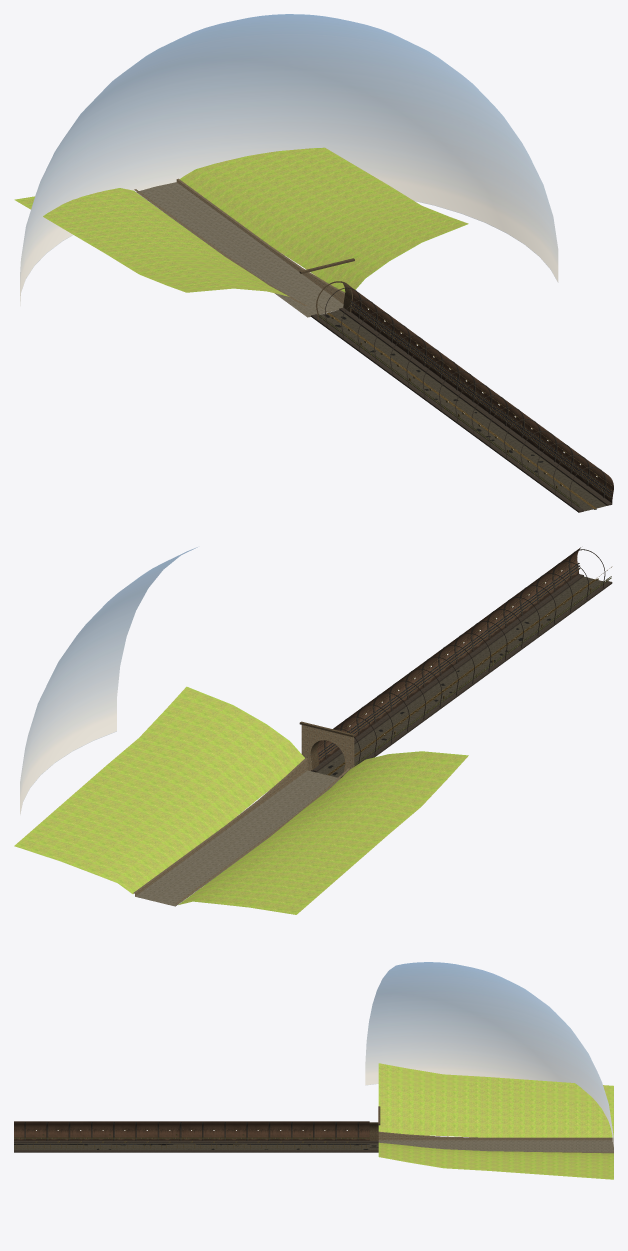
Rendered from portal-tunnel-v16.glb.
3 views of the same model, one above another, from view 1: azimuth 30°, elevation 25°; view 2: azimuth 150°, elevation 25°; view 3: azimuth 270°, elevation 25° (orthographic). The views are drawn at different scales.
Visible parts, largest first — view 1: daylight sky, exterior daylight grass, exterior daylight ground, tunnel ring concrete, tunnel brick lining, tunnel floor concrete, galvanised steel, exterior daylight stone, cable sheath, wall grime decal, service pipe paint, grating steel; view 2: exterior daylight grass, daylight sky, exterior daylight ground, tunnel ring concrete, tunnel brick lining, tunnel floor concrete, exterior daylight stone, galvanised steel, cable sheath, wall grime decal, service pipe paint, grating steel; view 3: daylight sky, exterior daylight grass, tunnel brick lining, tunnel ring concrete, tunnel floor concrete, exterior daylight ground, exterior daylight stone, cable sheath, wall grime decal, galvanised steel, service pipe paint.
Part boxes in pixels (x1=…): daylight sky: x1=20, y1=14, x2=558, y2=305; exterior daylight grass: x1=14, y1=147, x2=468, y2=296; exterior daylight ground: x1=136, y1=182, x2=343, y2=317; tunnel ring concrete: x1=311, y1=287, x2=612, y2=512; tunnel brick lining: x1=349, y1=285, x2=613, y2=502; tunnel floor concrete: x1=318, y1=310, x2=606, y2=511; galvanised steel: x1=317, y1=297, x2=611, y2=504; exterior daylight stone: x1=134, y1=178, x2=344, y2=306; cable sheath: x1=350, y1=301, x2=612, y2=497; wall grime decal: x1=351, y1=297, x2=613, y2=502; service pipe paint: x1=318, y1=314, x2=580, y2=507; grating steel: x1=327, y1=313, x2=596, y2=509; exterior daylight grass: x1=14, y1=686, x2=468, y2=914; daylight sky: x1=20, y1=547, x2=197, y2=814; exterior daylight ground: x1=135, y1=770, x2=340, y2=906; tunnel ring concrete: x1=311, y1=549, x2=612, y2=778; tunnel brick lining: x1=317, y1=547, x2=580, y2=763; tunnel floor concrete: x1=316, y1=576, x2=604, y2=777; exterior daylight stone: x1=133, y1=725, x2=354, y2=903; galvanised steel: x1=318, y1=558, x2=612, y2=766; cable sheath: x1=318, y1=563, x2=580, y2=759; wall grime decal: x1=319, y1=560, x2=578, y2=763; service pipe paint: x1=354, y1=576, x2=611, y2=765; grating steel: x1=327, y1=579, x2=595, y2=775; daylight sky: x1=365, y1=962, x2=613, y2=1146; exterior daylight grass: x1=378, y1=1063, x2=613, y2=1179; tunnel brick lining: x1=14, y1=1121, x2=369, y2=1140; tunnel ring concrete: x1=14, y1=1122, x2=378, y2=1152; tunnel floor concrete: x1=14, y1=1143, x2=378, y2=1149; exterior daylight ground: x1=378, y1=1140, x2=613, y2=1153; exterior daylight stone: x1=378, y1=1131, x2=613, y2=1152; cable sheath: x1=14, y1=1144, x2=369, y2=1147; wall grime decal: x1=14, y1=1128, x2=369, y2=1140; galvanised steel: x1=14, y1=1129, x2=369, y2=1148; service pipe paint: x1=14, y1=1137, x2=369, y2=1138.
Size of the model in its own units: 99.77 by 53.49 by 162.
17 materials, 14 textured.
